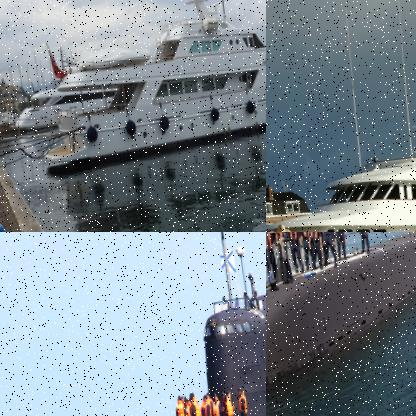Submarine: (0, 232, 265, 415), (266, 232, 415, 414)
Yacht: (22, 0, 265, 167), (266, 43, 415, 231)
